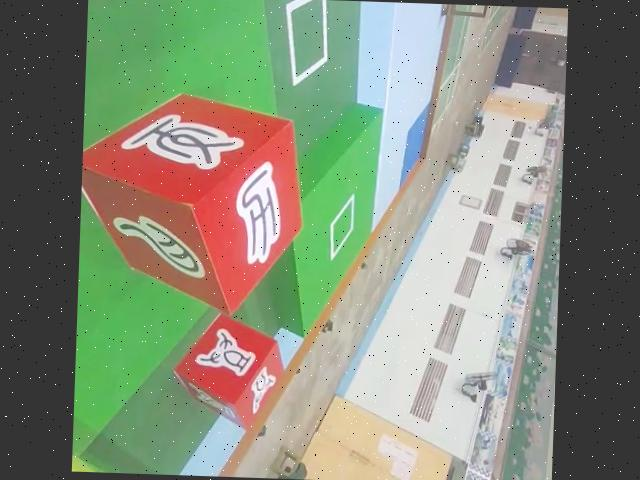R2 Fake: (78, 91, 314, 314)
R2 Real: (168, 310, 292, 431)
